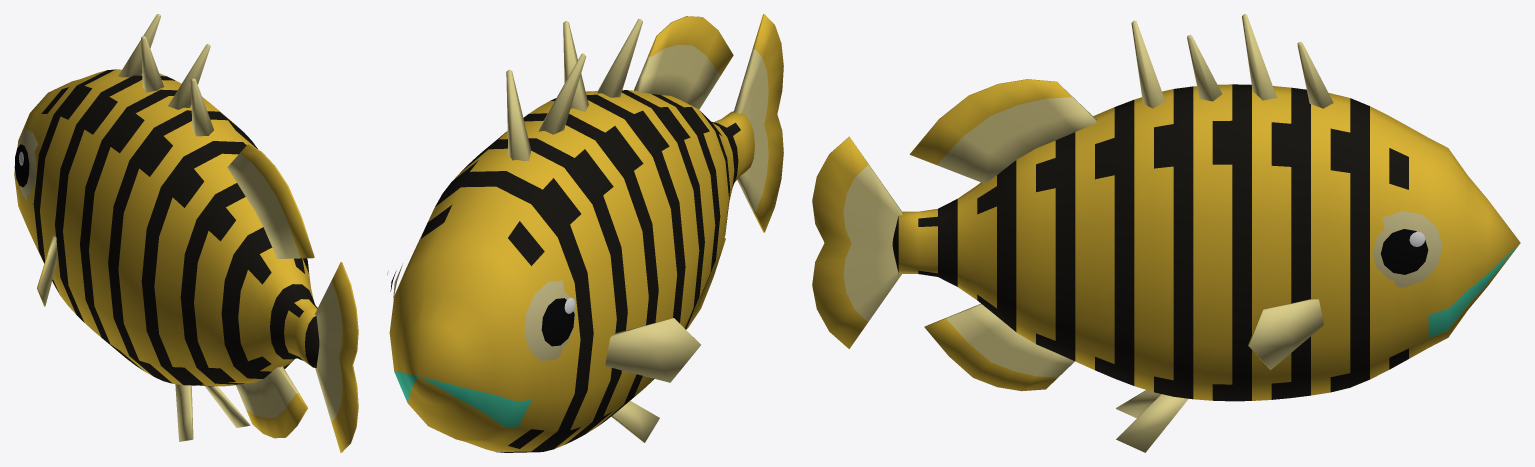
File: pinecone_fish.glb
The picture shows the model from 3 angles, left to right: view 1: azimuth 30°, elevation 25°; view 2: azimuth 150°, elevation 25°; view 3: azimuth 270°, elevation 25°; orthographic projection. The views are drawn at different scales.
Parts seen in each view (by area): view 1: pinecone_fish; view 2: pinecone_fish; view 3: pinecone_fish.
Boxes of the visible parts, x1,y1,x2,y2 form: pinecone_fish: (14,14,358,452); pinecone_fish: (387,14,783,452); pinecone_fish: (812,14,1520,452).
Size of the model in its own units: 0.8717 by 1.24 by 1.92.
